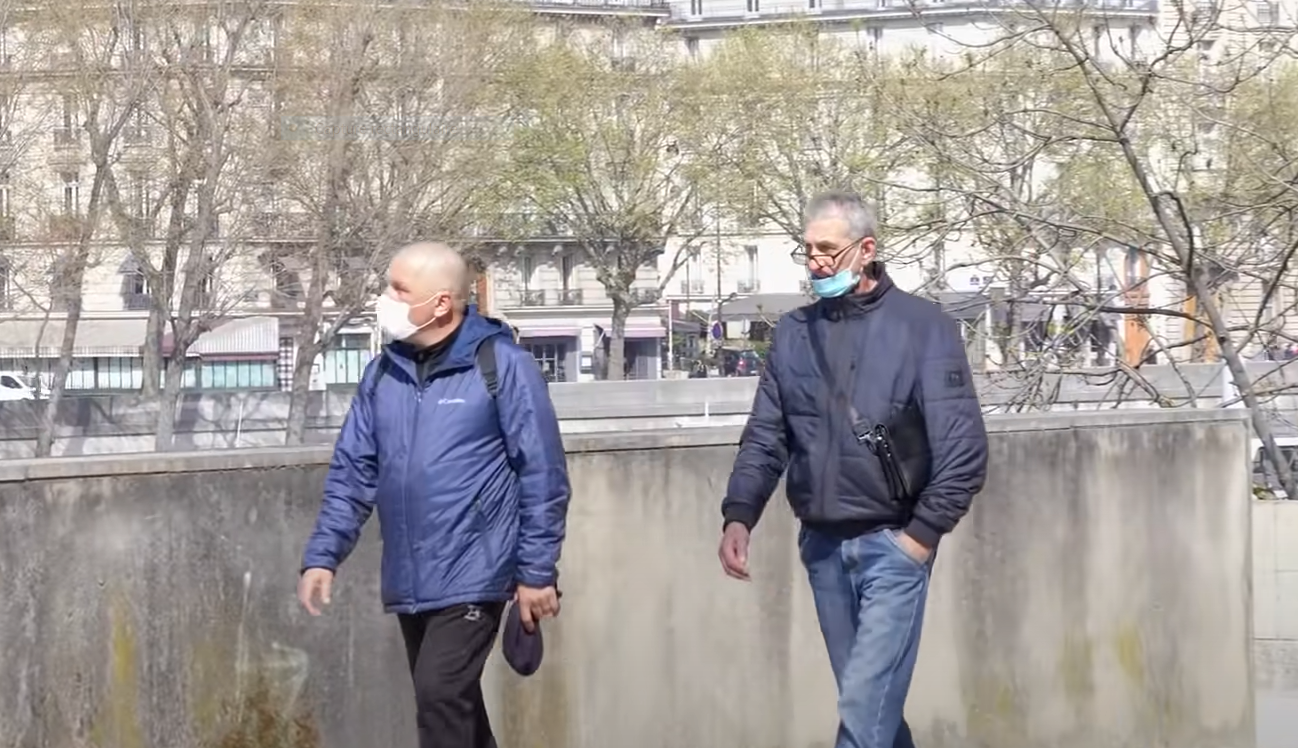with_incorrect_mask: (807, 226, 861, 293)
with_mask: (382, 271, 426, 337)
